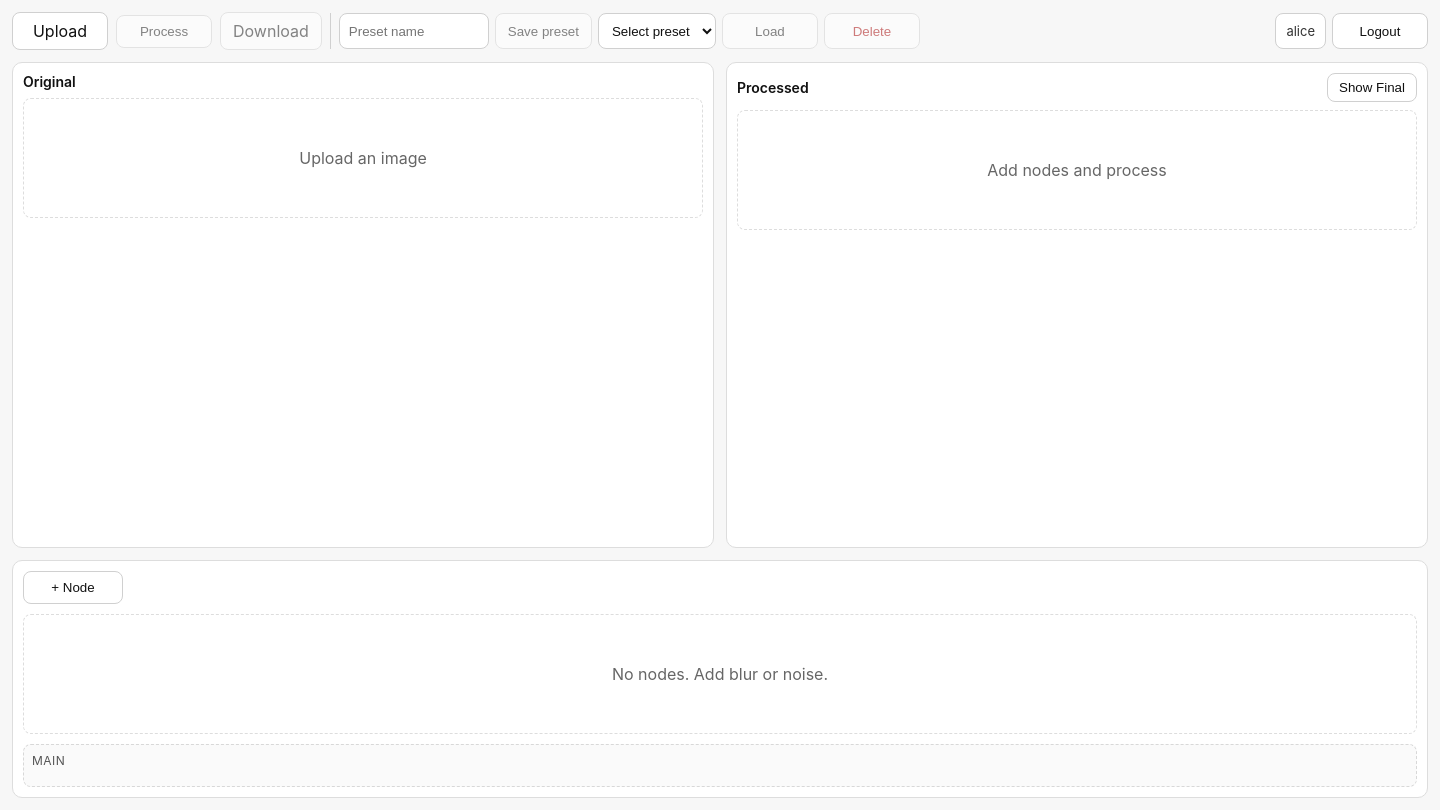
Test: App authentication and presets › loads a saved preset for the authenticated user
The image size is (1440, 810).
Select "portrait" in the dropdown named "Saved presets" at (657, 31), box [598,13,716,49]
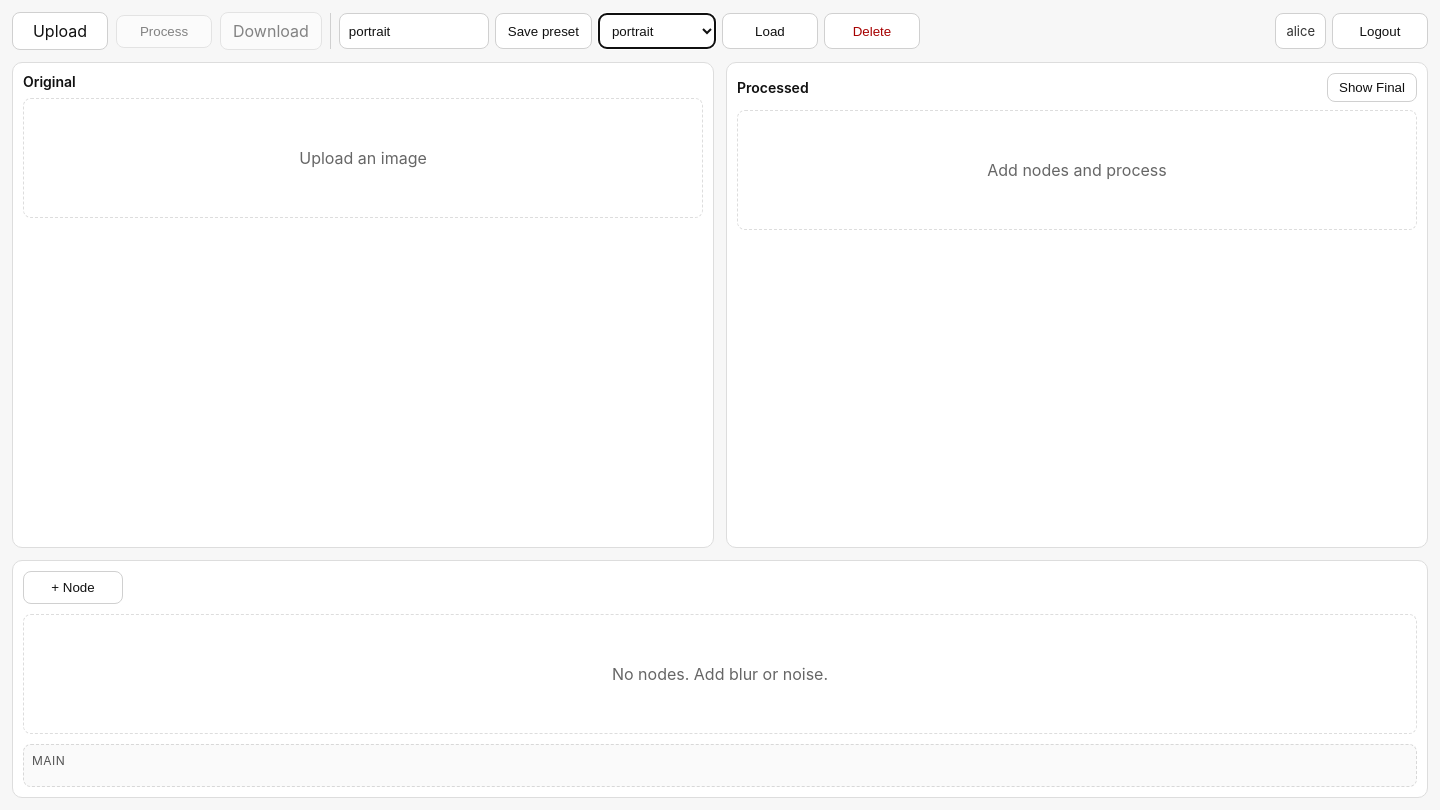
Click the button "Load" at (770, 31), box [722,13,818,49]
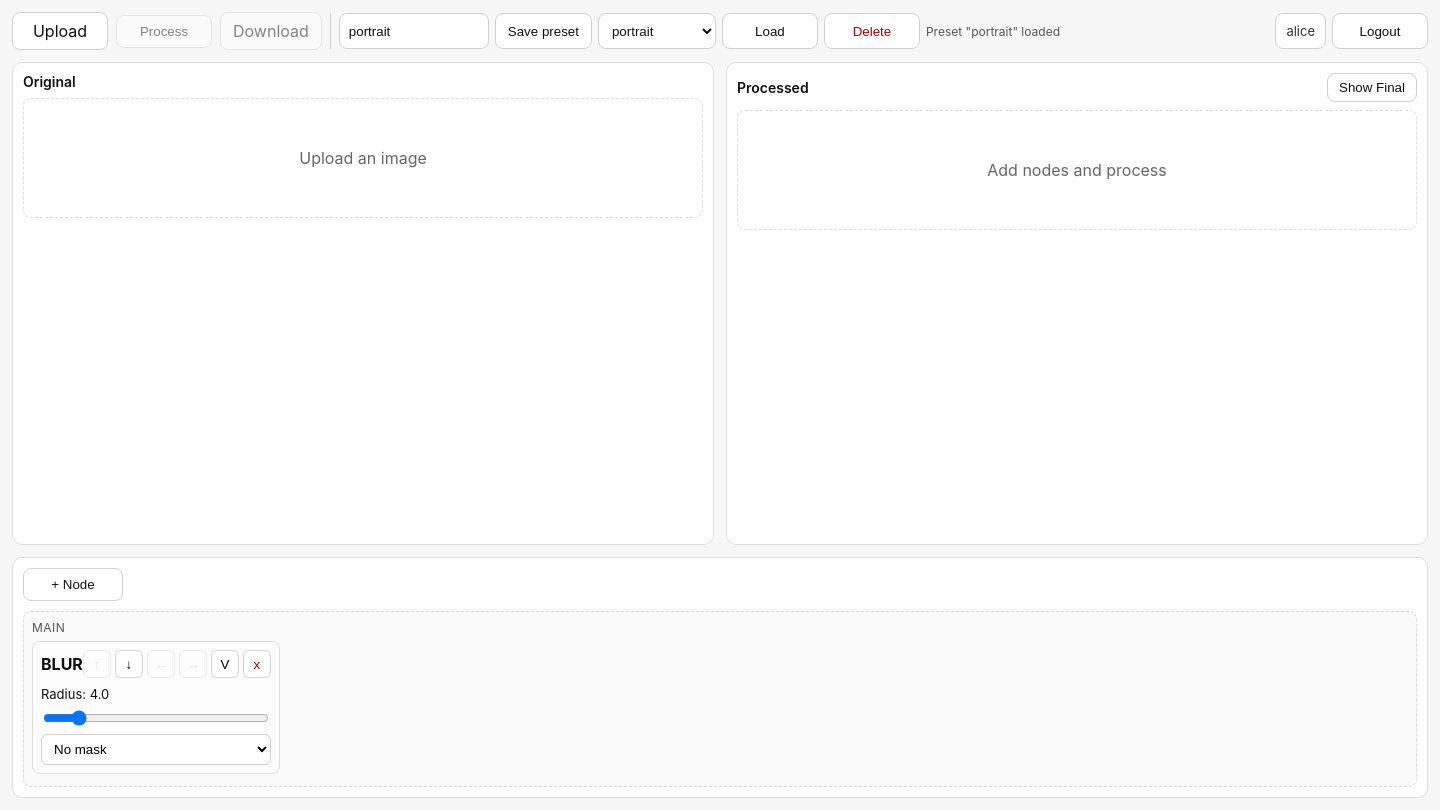
Check: the text "BLUR" is shown, box [41,654,83,674]
Check: the text "Preset \"portrait\" loaded" is shown, box [926,24,1060,38]
